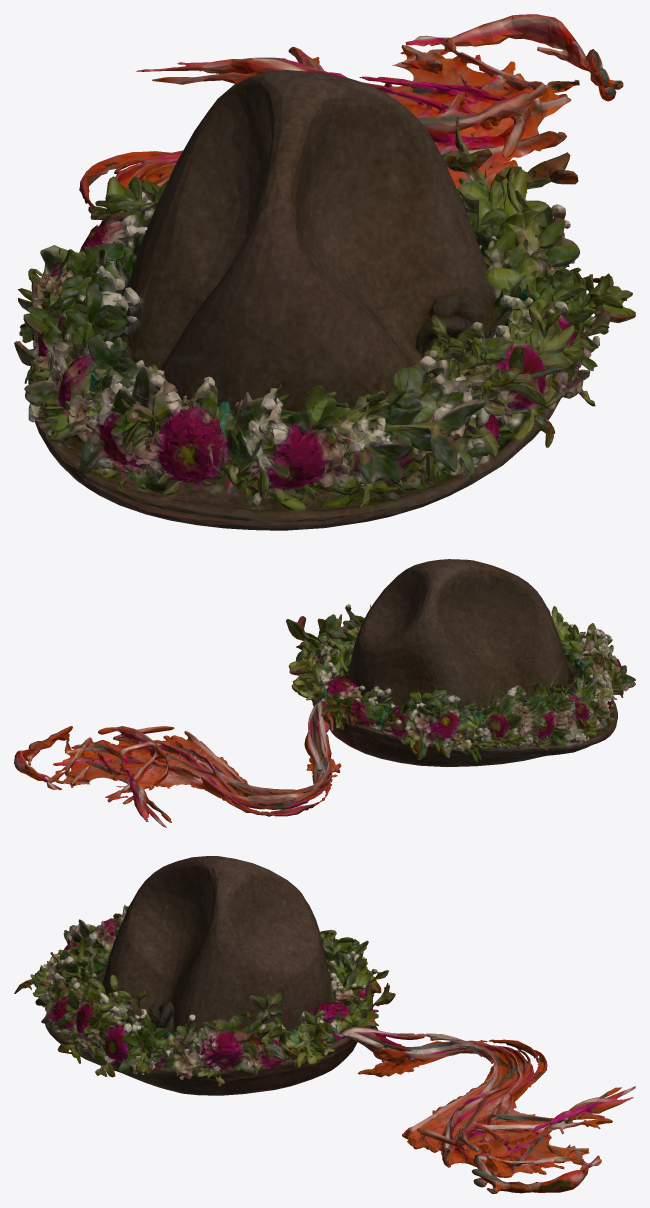
3 views of the same model, one above another, from view 1: azimuth 30°, elevation 25°; view 2: azimuth 150°, elevation 25°; view 3: azimuth 270°, elevation 25° (orthographic). The views are drawn at different scales.
Parts seen in each view (by area): view 1: Blumenkranz 2_80k_2k; view 2: Blumenkranz 2_80k_2k; view 3: Blumenkranz 2_80k_2k.
Boxes of the visible parts, x1=… form: Blumenkranz 2_80k_2k: x1=14, y1=14, x2=635, y2=530; Blumenkranz 2_80k_2k: x1=14, y1=559, x2=635, y2=827; Blumenkranz 2_80k_2k: x1=14, y1=856, x2=635, y2=1193.
Bounding box in the file's own units: 0.4326 × 0.1587 × 0.4916.
Materials: 1 (1 with a texture image).
